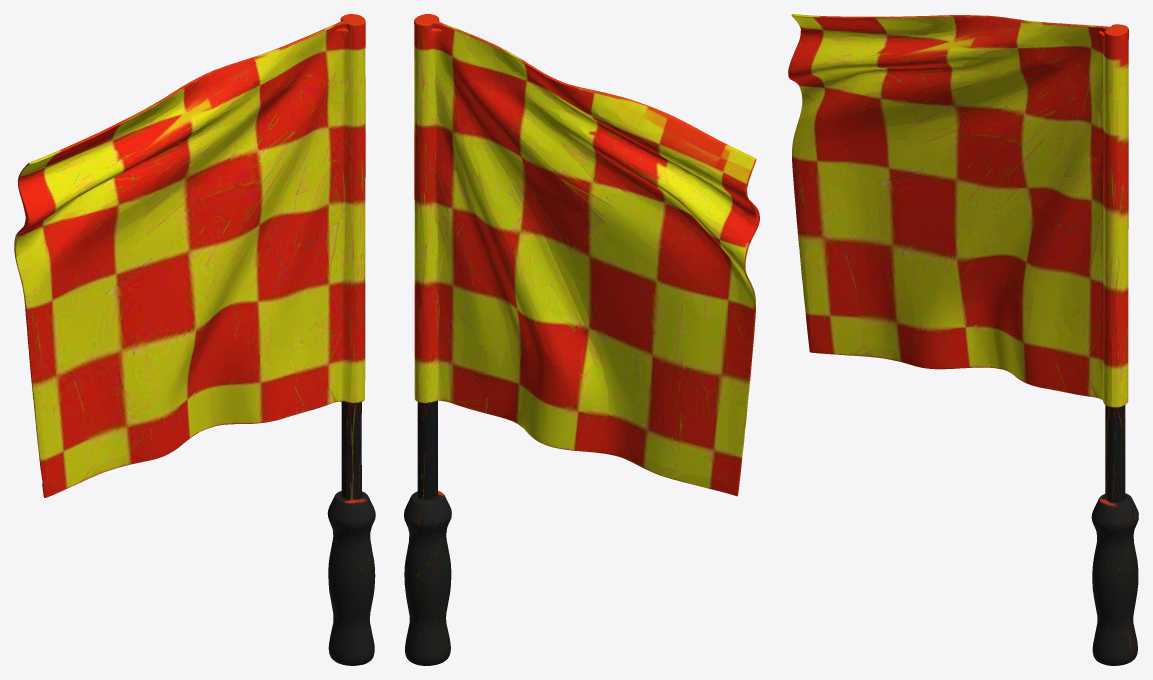
Rendered from flag.glb.
3 renders of one model, left to right at view 1: azimuth 30°, elevation 25°; view 2: azimuth 150°, elevation 25°; view 3: azimuth 330°, elevation 25°, orthographic.
Parts seen in each view (by area): view 1: Mesh_0; view 2: Mesh_0; view 3: Mesh_0.
Part boxes in pixels (<box>): Mesh_0: <box>14,14,375,665</box>; Mesh_0: <box>404,14,759,665</box>; Mesh_0: <box>788,14,1138,665</box>.
Size of the model in its own units: 1.09 by 1.9 by 0.1362.
Materials: 1 (1 with a texture image).
